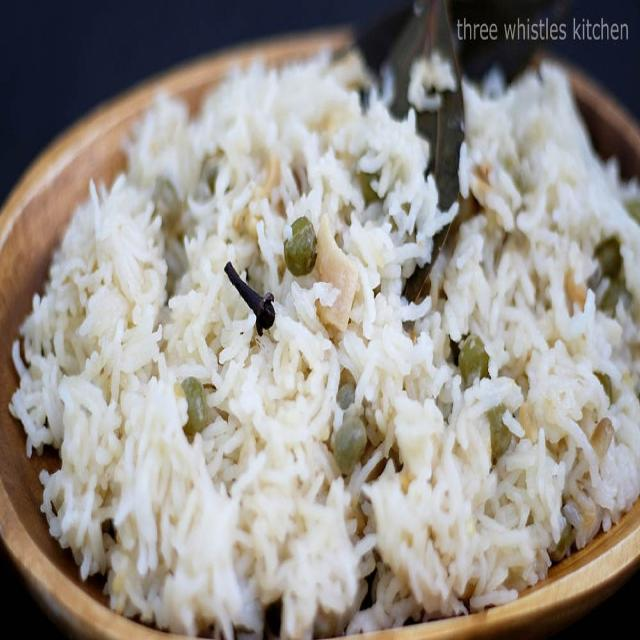nei satham: (29, 0, 640, 640)
